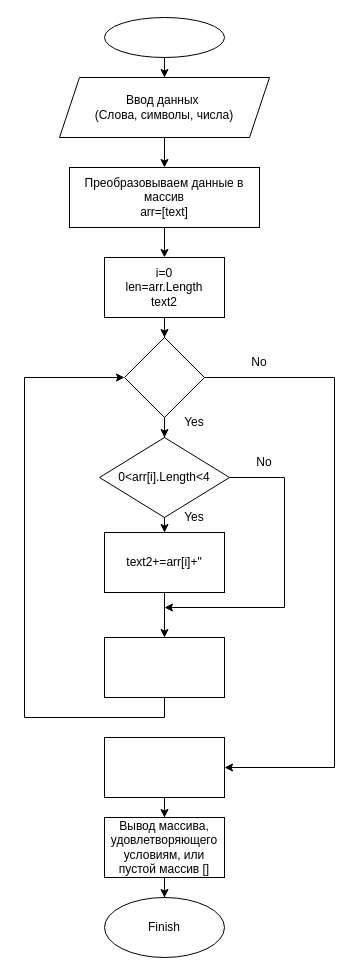
Image size: 360x975. Some labels were removed from this diagram. Here are the shapes that lost their labels. From the top down, the centre of each, then its label:
At (x=164, y=37): "Start".
At (x=164, y=377): "i<len".
At (x=164, y=667): "i++".
At (x=164, y=767): "Преобразуем text2 в одномерный массив arr2=[text2]".
